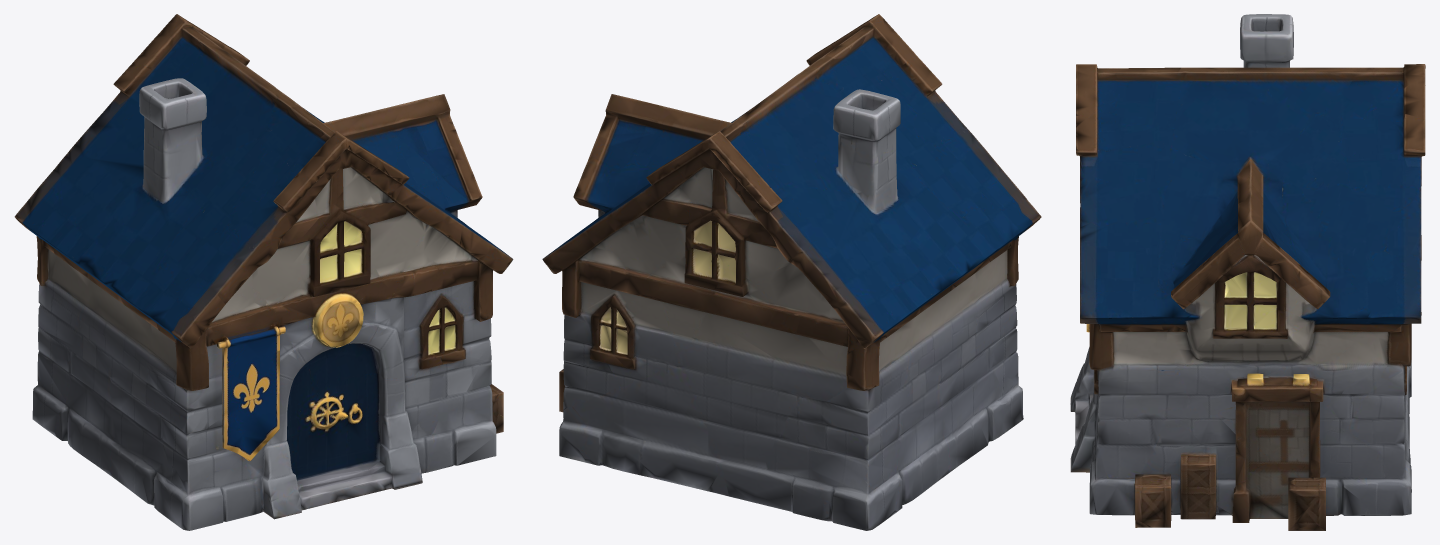
Rendered from bank.glb.
3 views of the same model, side by side, from view 1: azimuth 30°, elevation 25°; view 2: azimuth 150°, elevation 25°; view 3: azimuth 270°, elevation 25° (orthographic). The views are drawn at different scales.
Bounding box in the file's own units: 1.9 × 1.81 × 1.56.
Materials: 1 (1 with a texture image).
